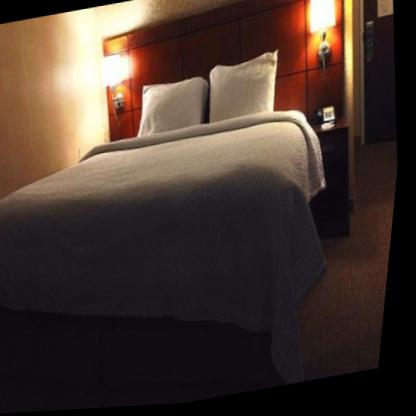Bed: (0, 0, 389, 408)
